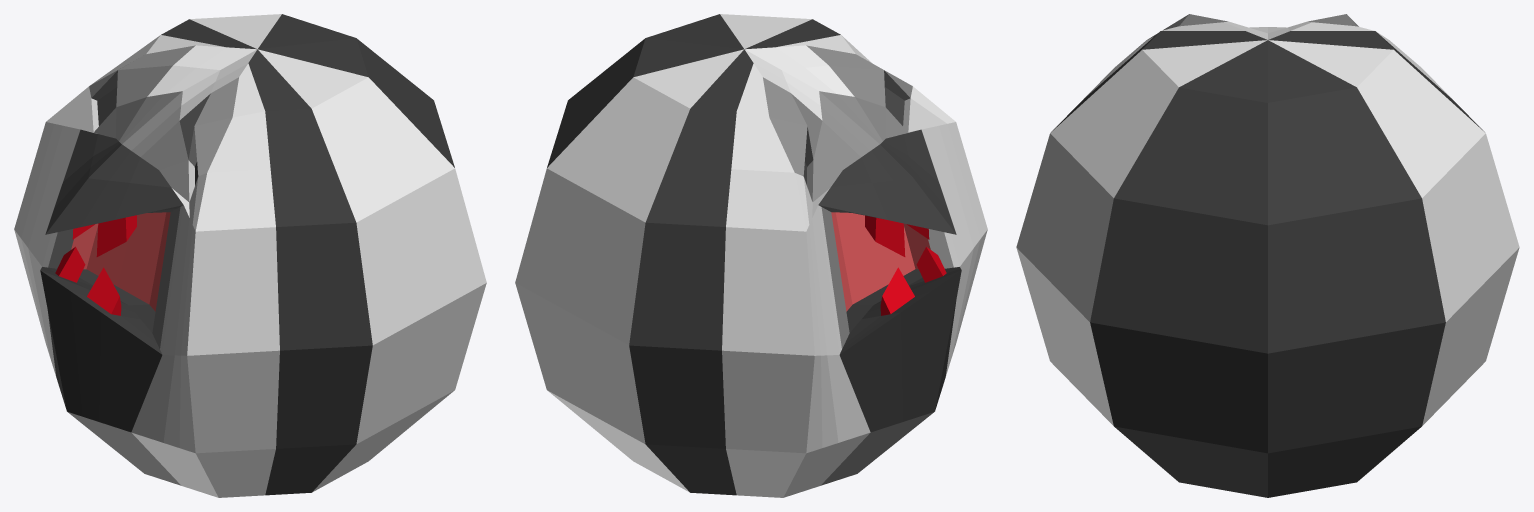
Rendered from ArenaBall.fbx.
3 views of the same model, side by side, from view 1: azimuth 30°, elevation 25°; view 2: azimuth 150°, elevation 25°; view 3: azimuth 270°, elevation 25° (orthographic). The views are drawn at different scales.
Visible parts, largest first — view 1: Sphere; view 2: Sphere; view 3: Sphere.
Part boxes in pixels (x1,y1,x2,y2): Sphere: (14,14,486,497); Sphere: (515,14,987,497); Sphere: (1016,14,1519,497).
Bounding box in the file's own units: 199 × 192 × 200.
